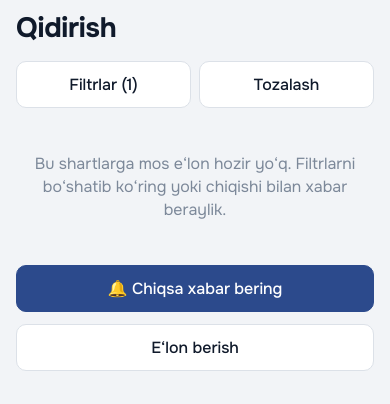
Test case: SearchPage › yo‘nalish tanlangan natijasiz qidiruv — obuna taklif qilinadi va yoziladi
Click the button "🔔 Chiqsa xabar bering". click: point(195, 289)
box: [16, 265, 374, 312]
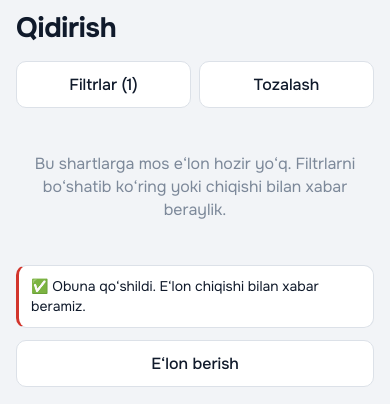
Now the text "✅ Obuna qo‘shildi. E‘lon chiqishi bilan xabar beramiz." is shown, box [16, 265, 374, 328]
